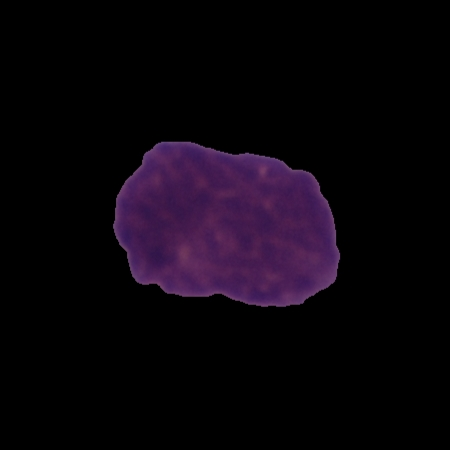HEM: (110, 137, 344, 310)
